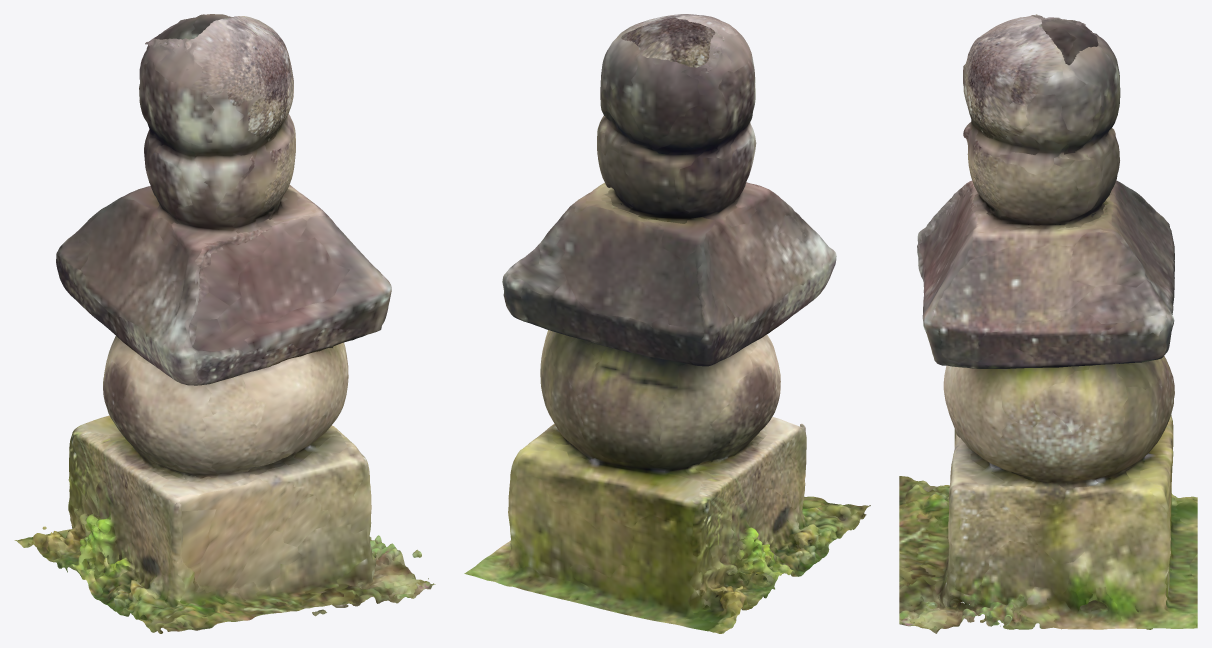
3 renders of one model, left to right at view 1: azimuth 30°, elevation 25°; view 2: azimuth 150°, elevation 25°; view 3: azimuth 270°, elevation 25°, orthographic. The views are drawn at different scales.
Visible parts, largest first — view 1: Object_2; view 2: Object_2; view 3: Object_2.
Boxes of the visible parts, <box> form: Object_2: <box>14,14,435,633</box>; Object_2: <box>464,14,870,633</box>; Object_2: <box>899,14,1197,633</box>.
Size of the model in its own units: 1.39 by 2.78 by 1.37.
1 material, 1 textured.
